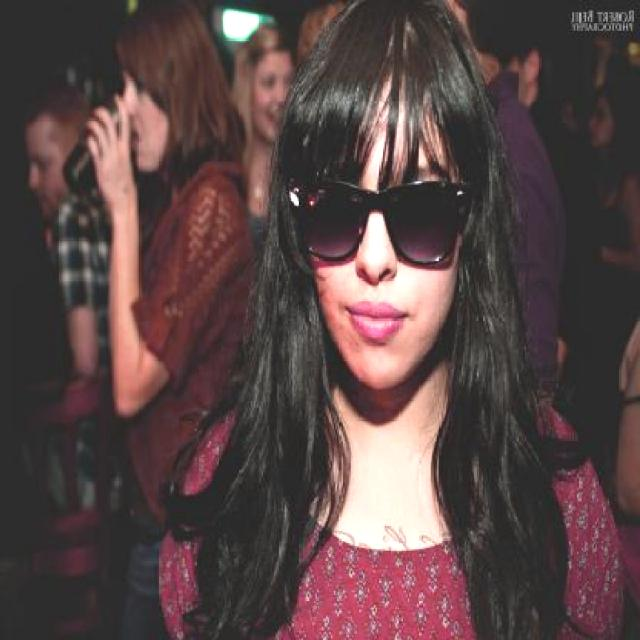face_nomask: (303, 178, 471, 360)
glasses: (297, 157, 472, 268)
hand_noglove: (78, 99, 136, 187)
head_nohelmet: (295, 7, 482, 128), (107, 15, 228, 87)
person: (176, 1, 577, 640), (74, 7, 256, 640)
